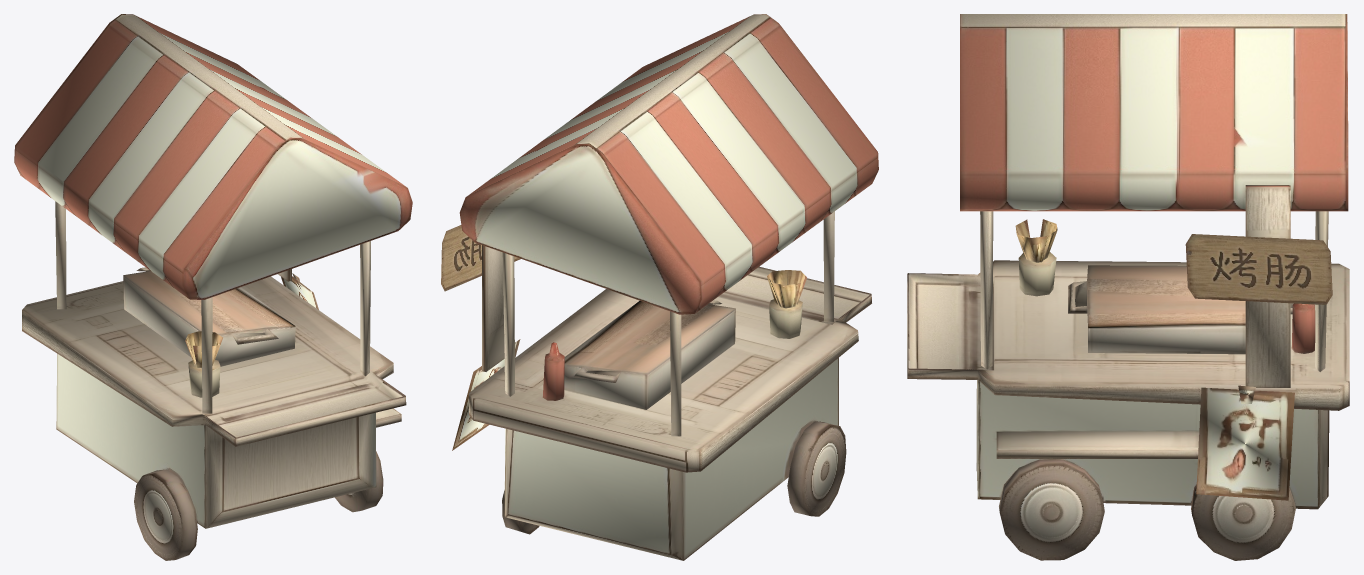
Rendered from 街头小吃车3d模型.fbx.
3 views of the same model, side by side, from view 1: azimuth 30°, elevation 25°; view 2: azimuth 150°, elevation 25°; view 3: azimuth 270°, elevation 25° (orthographic). The views are drawn at different scales.
Parts seen in each view (by area): view 1: tripo_node_0482eb42; view 2: tripo_node_0482eb42; view 3: tripo_node_0482eb42.
Part boxes in pixels (bbox=[...]): tripo_node_0482eb42: bbox=[14, 14, 412, 560]; tripo_node_0482eb42: bbox=[441, 14, 878, 560]; tripo_node_0482eb42: bbox=[907, 14, 1349, 560].
Size of the model in its own units: 0.6465 by 0.998 by 0.8223.
